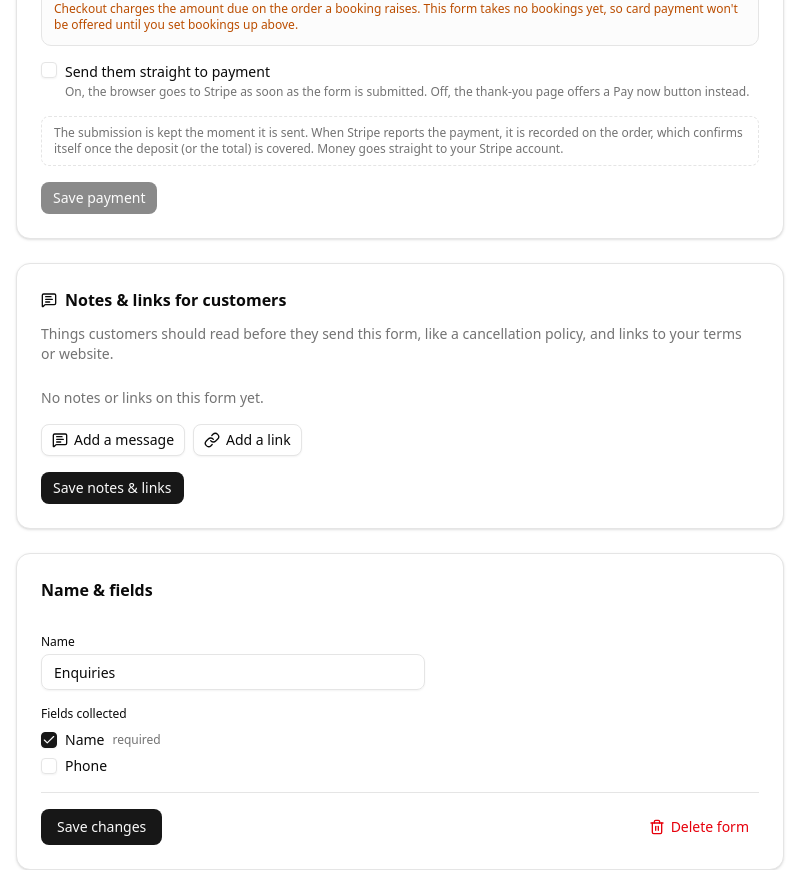
Scenario: FormPage › refuses to save a form that drops a field its entity requires
(page scrolled)
Click the checkbox named "Name": (49,740) [41,732,57,748]
(page scrolled)
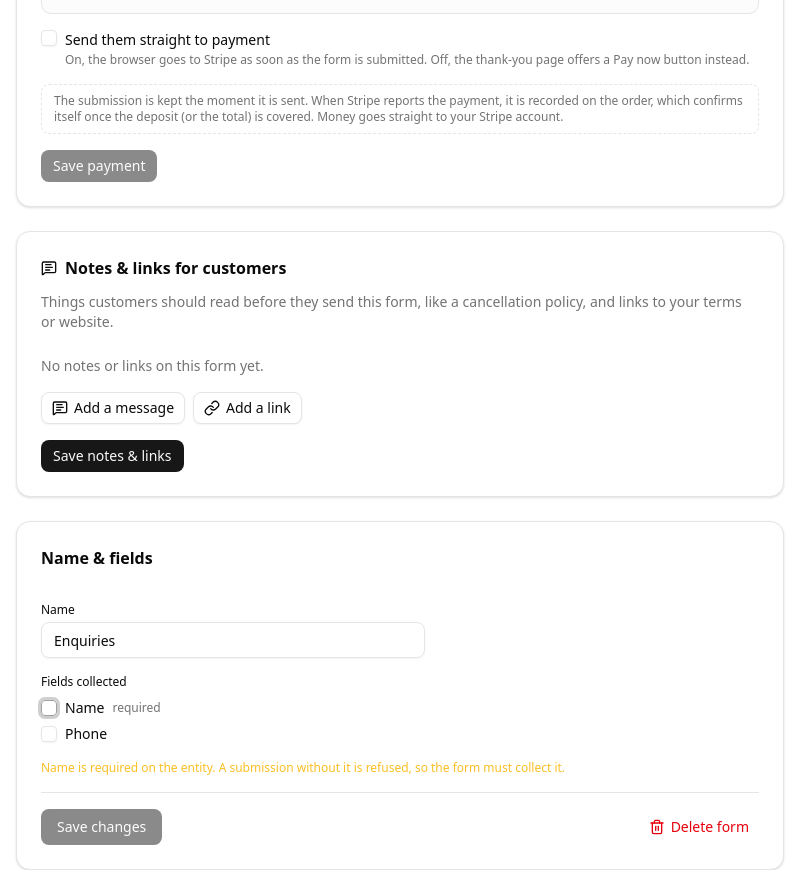
Now the text "is required on the entity" is shown, box [41,759,565,776]
Now the button "Save changes" is disabled, box [41,809,162,845]
